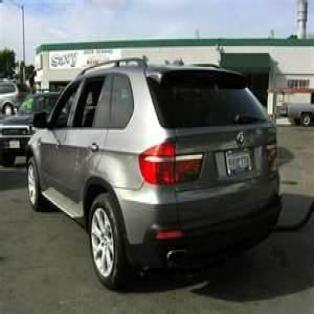Auto: (25, 55, 281, 290)
